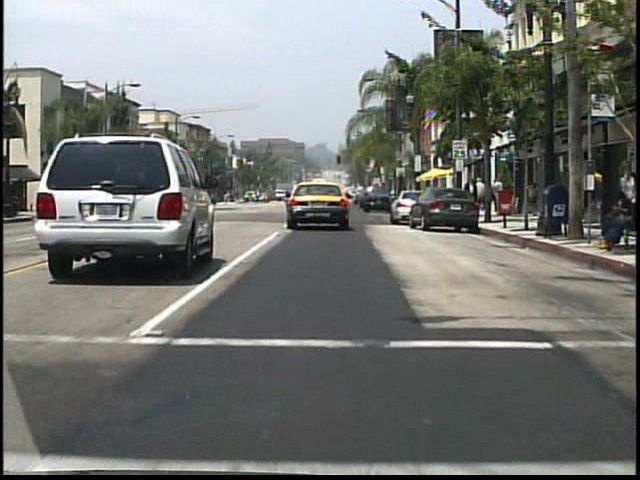person: (576, 195, 623, 252), (463, 177, 479, 219), (475, 179, 488, 216), (496, 182, 508, 217), (487, 184, 499, 216)
